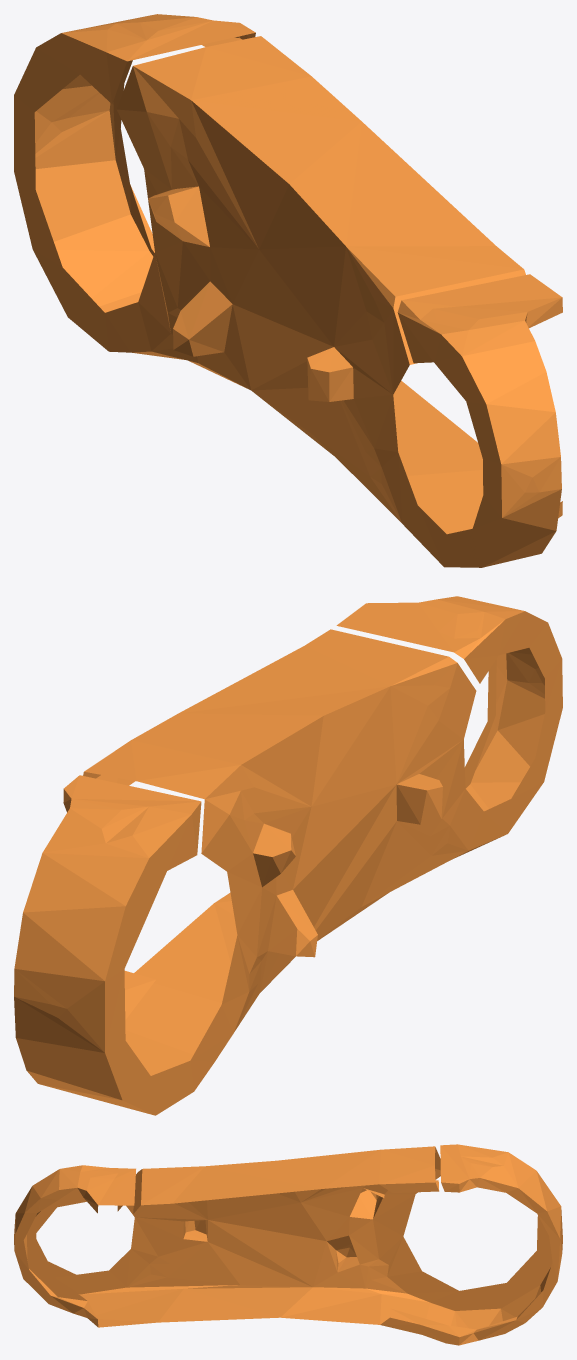
Rendered from youbot_test_export_urdf_ME_Arm2_13_sub0_vis_1.dae.
3 views of the same model, one above another, from view 1: azimuth 30°, elevation 25°; view 2: azimuth 150°, elevation 25°; view 3: azimuth 270°, elevation 25° (orthographic). The views are drawn at different scales.
Visible parts, largest first — view 1: Node_0000015E15F53B30; view 2: Node_0000015E15F53B30; view 3: Node_0000015E15F53B30.
Boxes of the visible parts, left/top/right/bottom form: Node_0000015E15F53B30: left=14, top=14, right=562, bottom=567; Node_0000015E15F53B30: left=14, top=596, right=562, bottom=1115; Node_0000015E15F53B30: left=14, top=1144, right=562, bottom=1345.
Size of the model in its own units: 0.0434 by 0.0739 by 0.2199.
